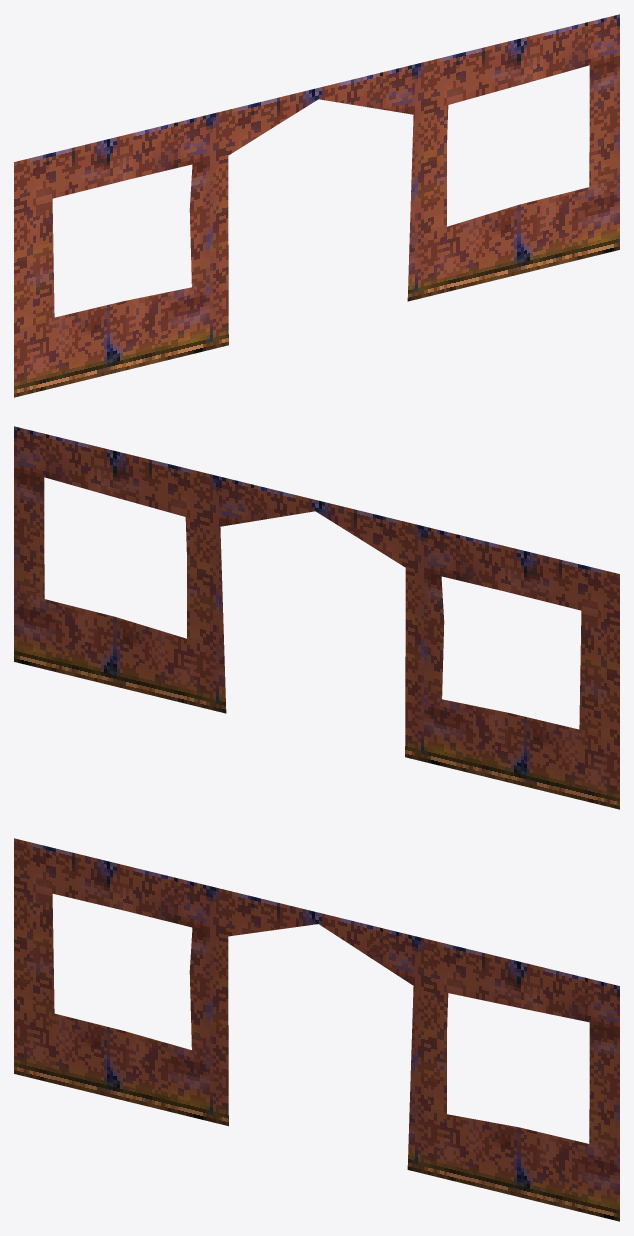
The model's file is W_AI3_fOf_Kleiner_1714.glb.
3 renders of one model, top to bottom at view 1: azimuth 30°, elevation 25°; view 2: azimuth 150°, elevation 25°; view 3: azimuth 330°, elevation 25°, orthographic.
Parts seen in each view (by area): view 1: polySurfaceShape908; view 2: polySurfaceShape908; view 3: polySurfaceShape908.
Boxes of the visible parts, box(x1,y1,x2,y2) form: polySurfaceShape908: box(14, 14, 619, 397); polySurfaceShape908: box(14, 426, 619, 809); polySurfaceShape908: box(14, 838, 619, 1221).
Size of the model in its own units: 0.9385 by 0.3486 by 1.34e-07.
Materials: 1 (1 with a texture image).
